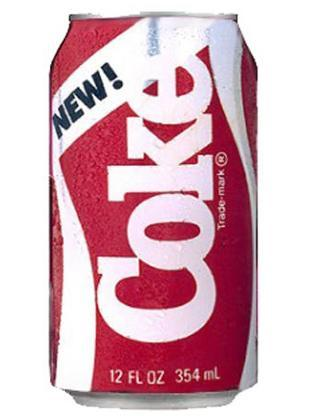Can: (46, 7, 260, 411)
